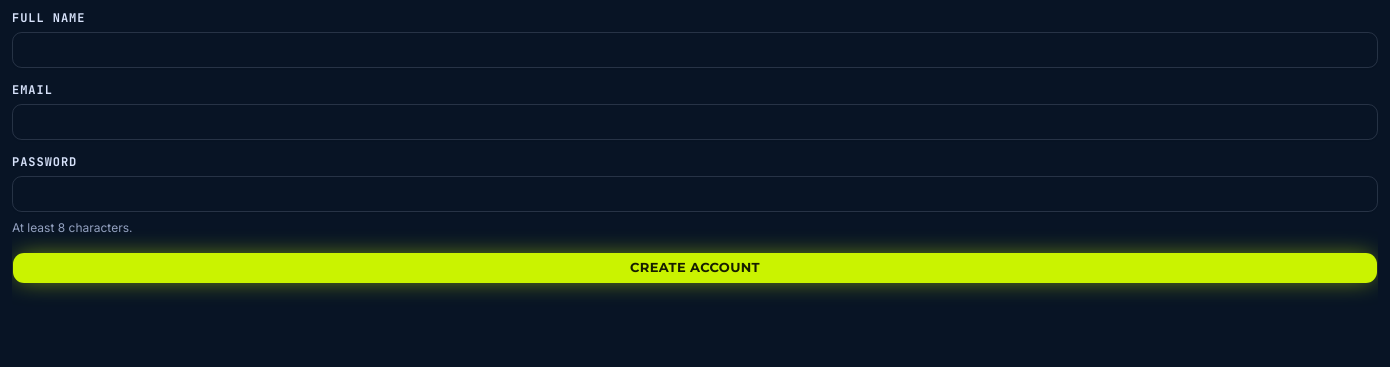
Scenario: RegisterForm › explains when sign-up needs email confirmation before sign-in
Type "Rico Player" into the field labelled "Full name" at (695, 50), box [12,32,1378,68]
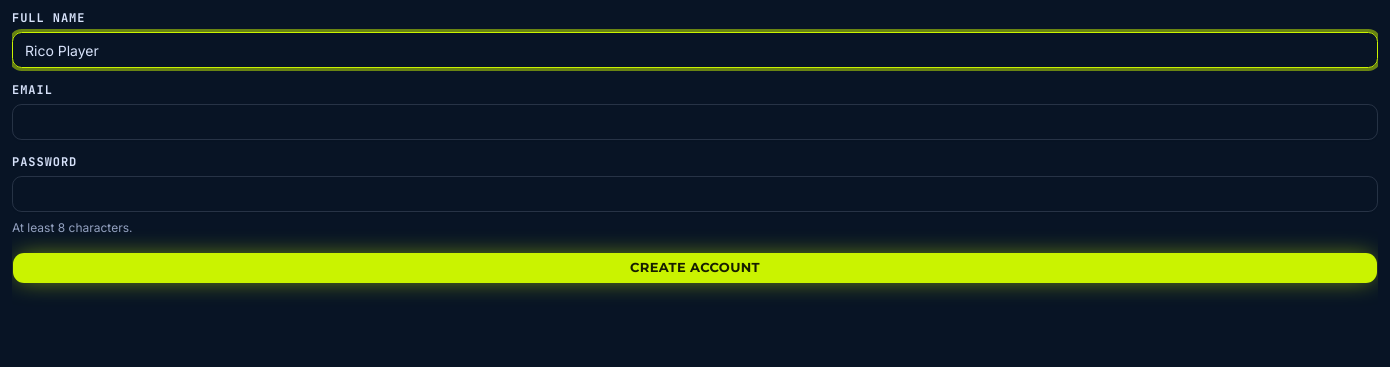
Type "rico@pickleball.local" into the field labelled "Email" at (695, 122), box [12,104,1378,140]
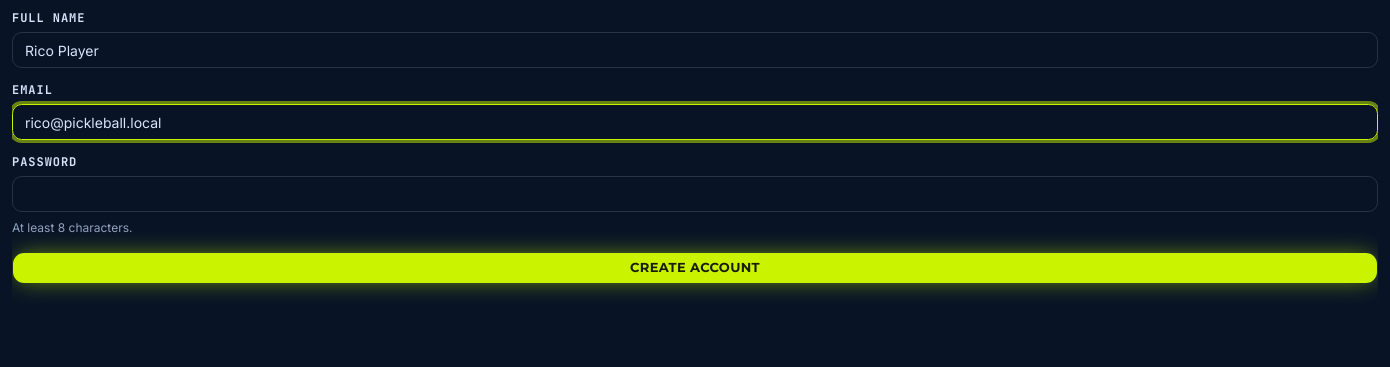
Type "Secret123!" into the password field labelled "Password" at (695, 194), box [12,176,1378,212]
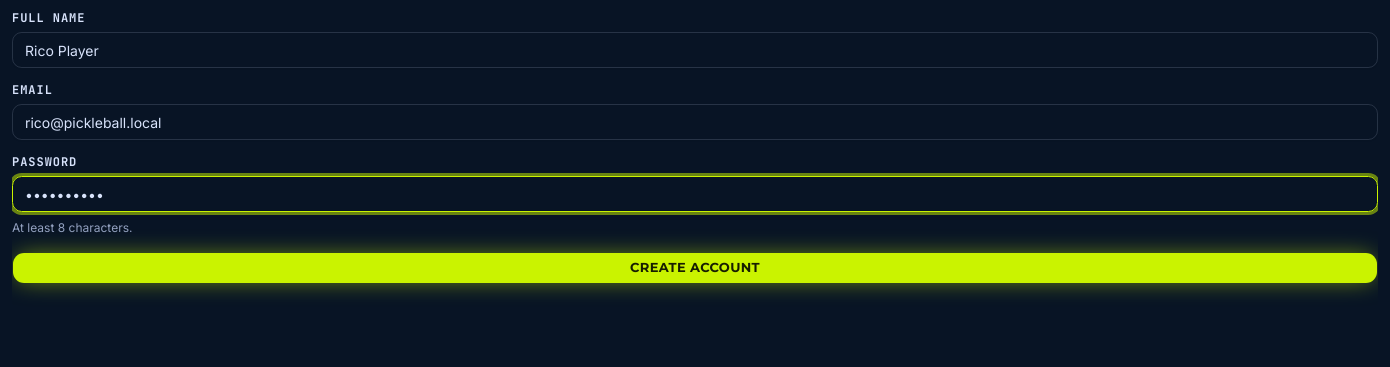
Click the button "Create account" at (695, 268), box [12,252,1378,284]
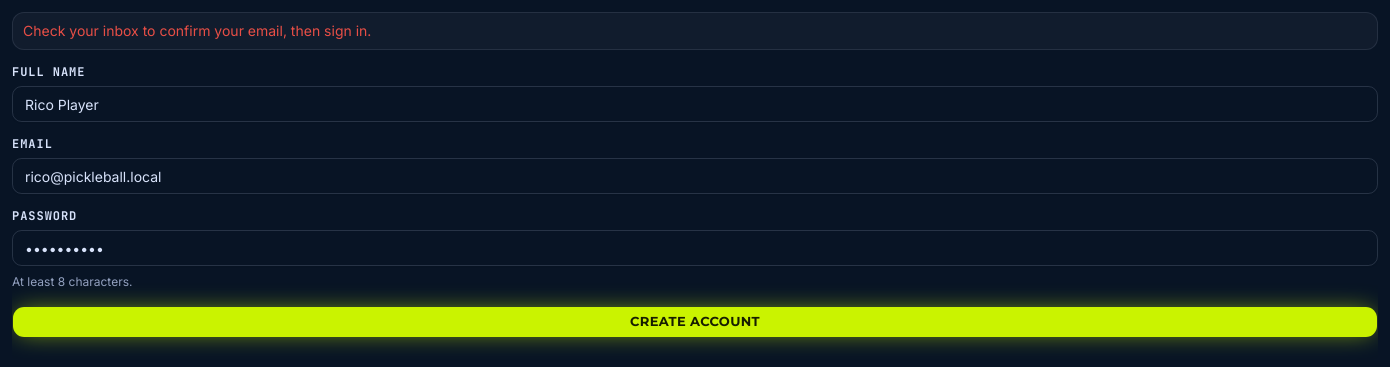
expect the text "Check your inbox to confirm your email, then sign in." is shown: met, box [23,22,371,39]
